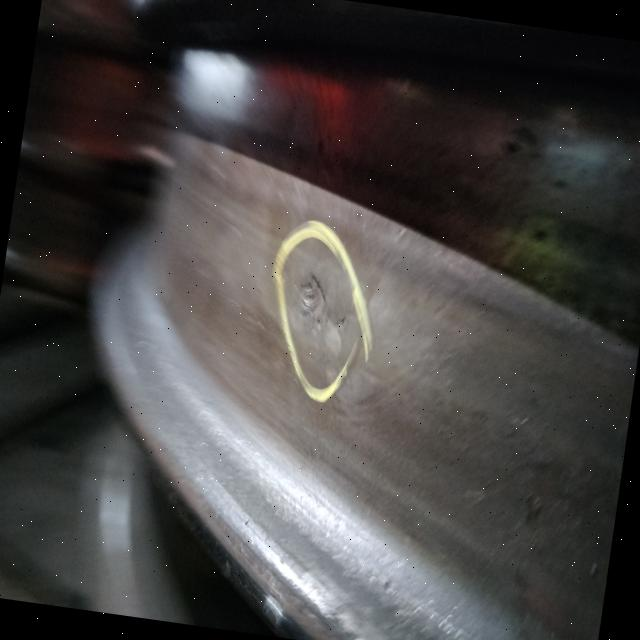Blue hole: (286, 269, 350, 350)
